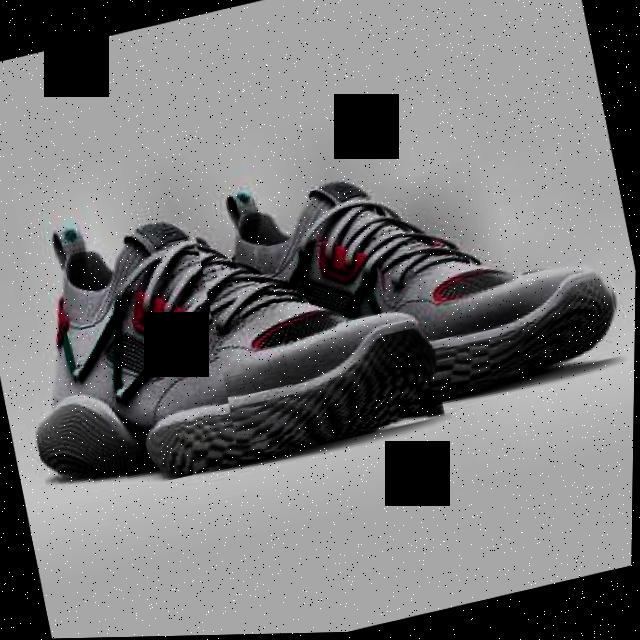shoe: (0, 151, 453, 508), (186, 112, 631, 447)
